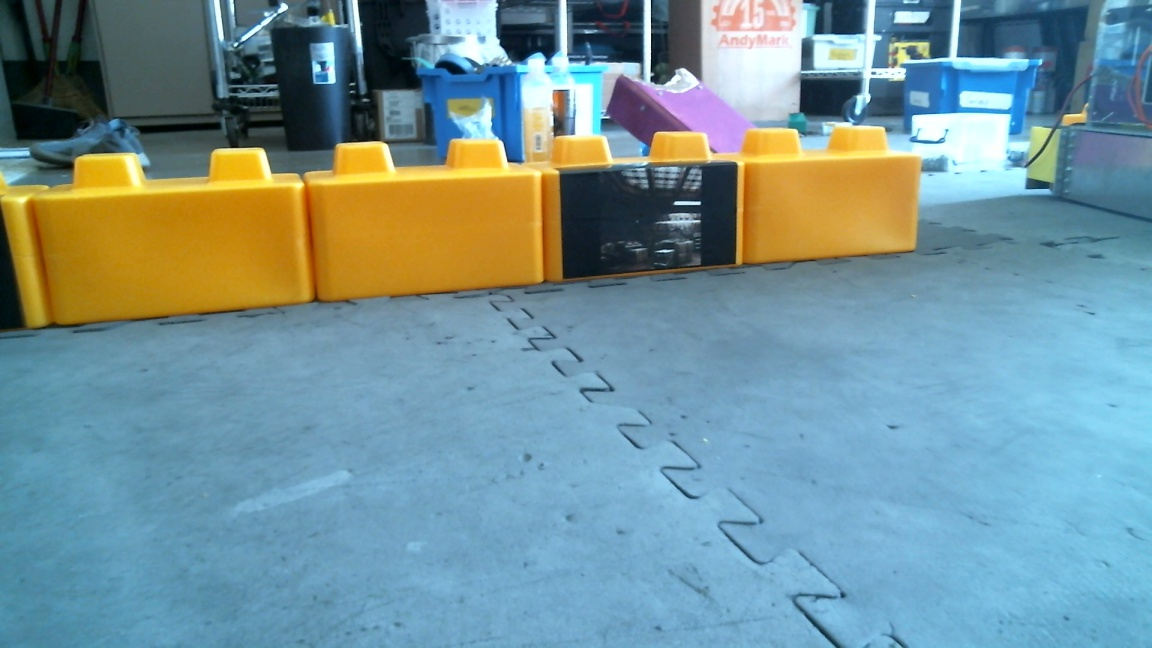center: (306, 121, 924, 299)
right: (33, 129, 748, 332)
